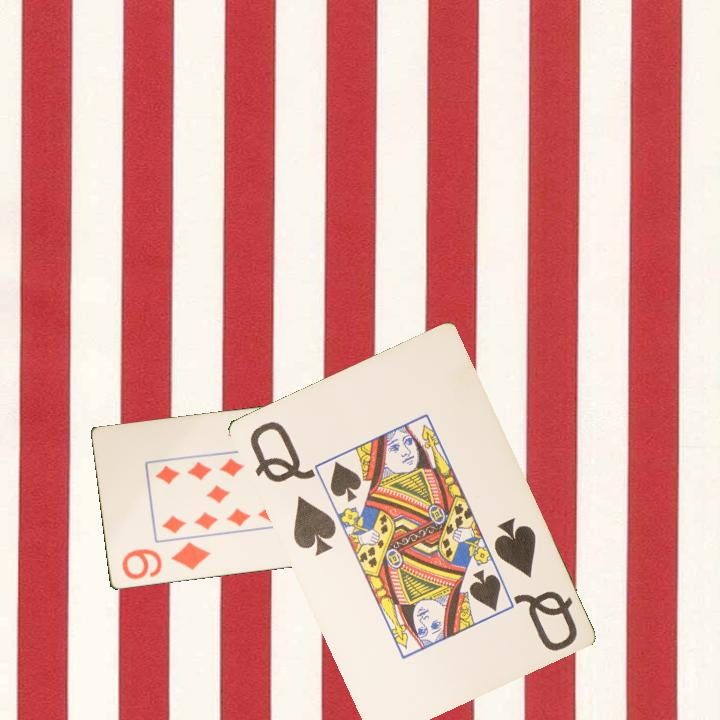9d: (118, 539, 213, 583)
Qs: (245, 417, 339, 559), (489, 514, 580, 654)
